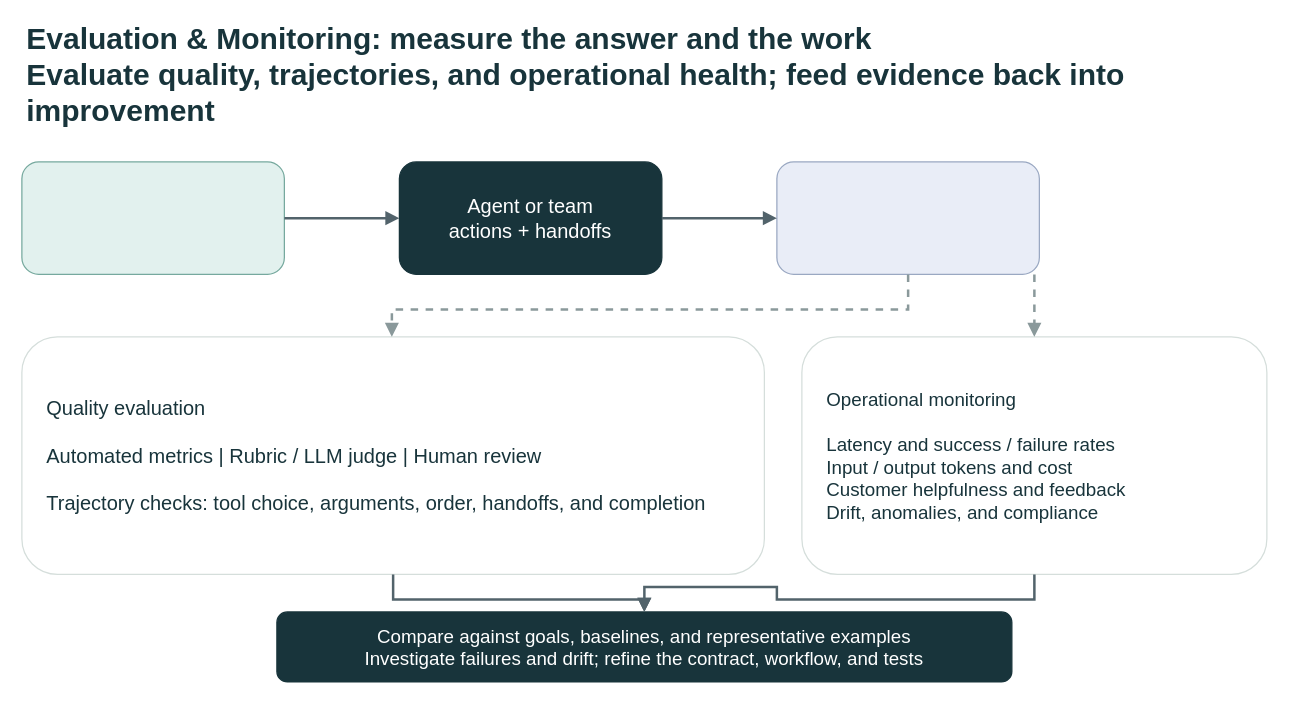
Some shapes in this 1296 by 704 pixel diagram are drawn without their labels. Each missing label, with the centre of its shape:
"Answer + trajectory result, tool calls, events" goes at point (907, 217).
"Task contract goal + criteria + limits" goes at point (152, 217).
